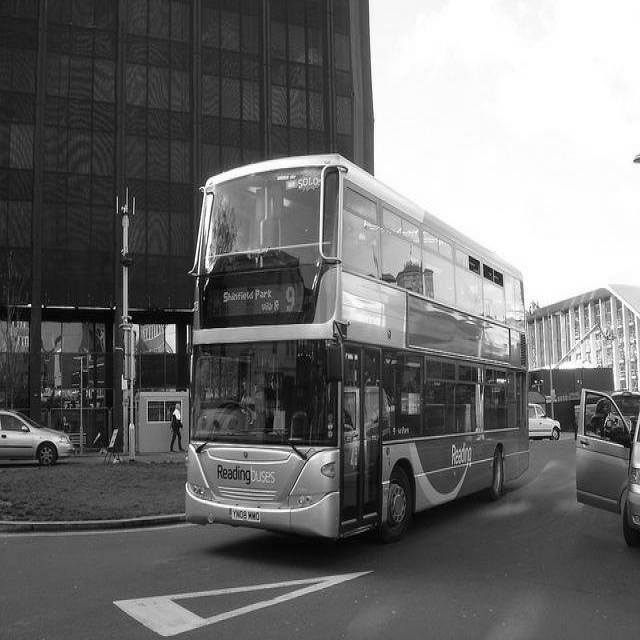vehicle: (183, 153, 531, 541), (574, 387, 640, 549), (0, 409, 74, 464), (529, 404, 561, 441), (612, 392, 640, 434)
